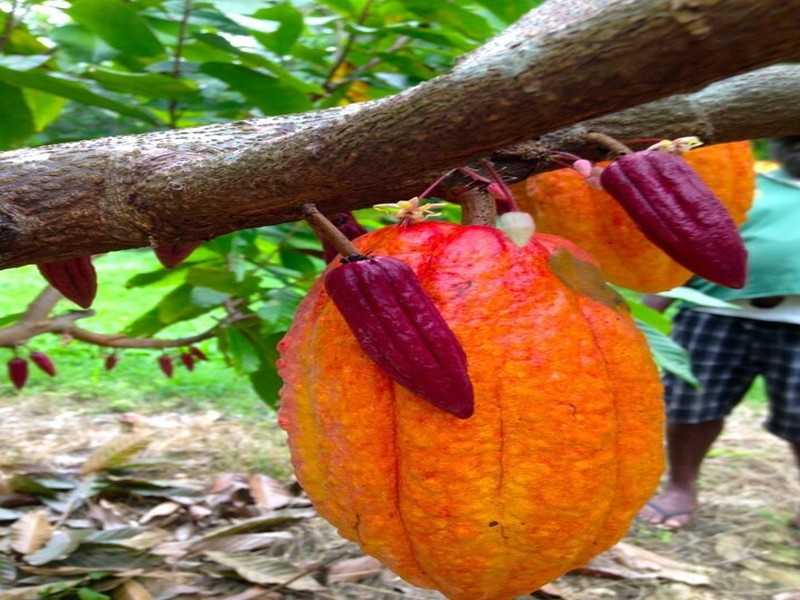Cacaopod: (278, 223, 666, 600)
